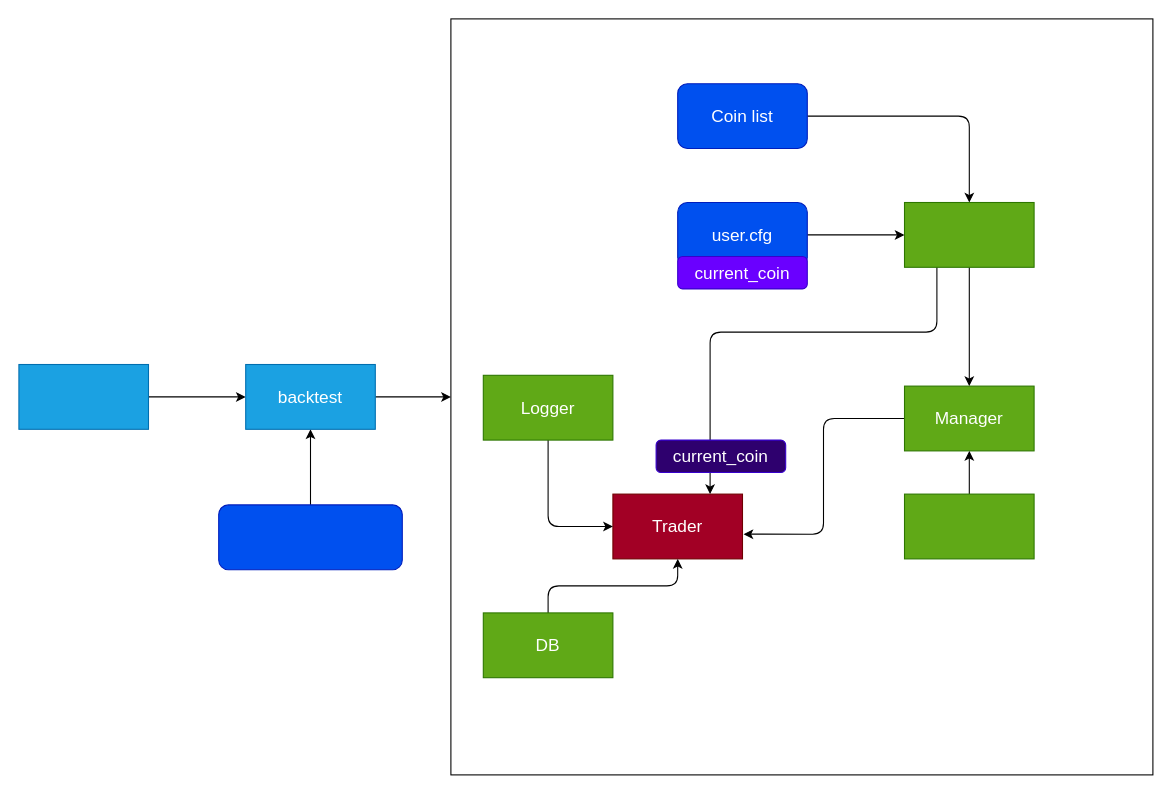
Image size: 1172x794. Some labels were removed from this diagram. The centre of each missing label's shape, as x and y in pixels:
"Back_testing.yaml" goes at [310,537].
"Config" goes at [968,234].
"Recorder" goes at [968,526].
"Run" goes at [83,396].
